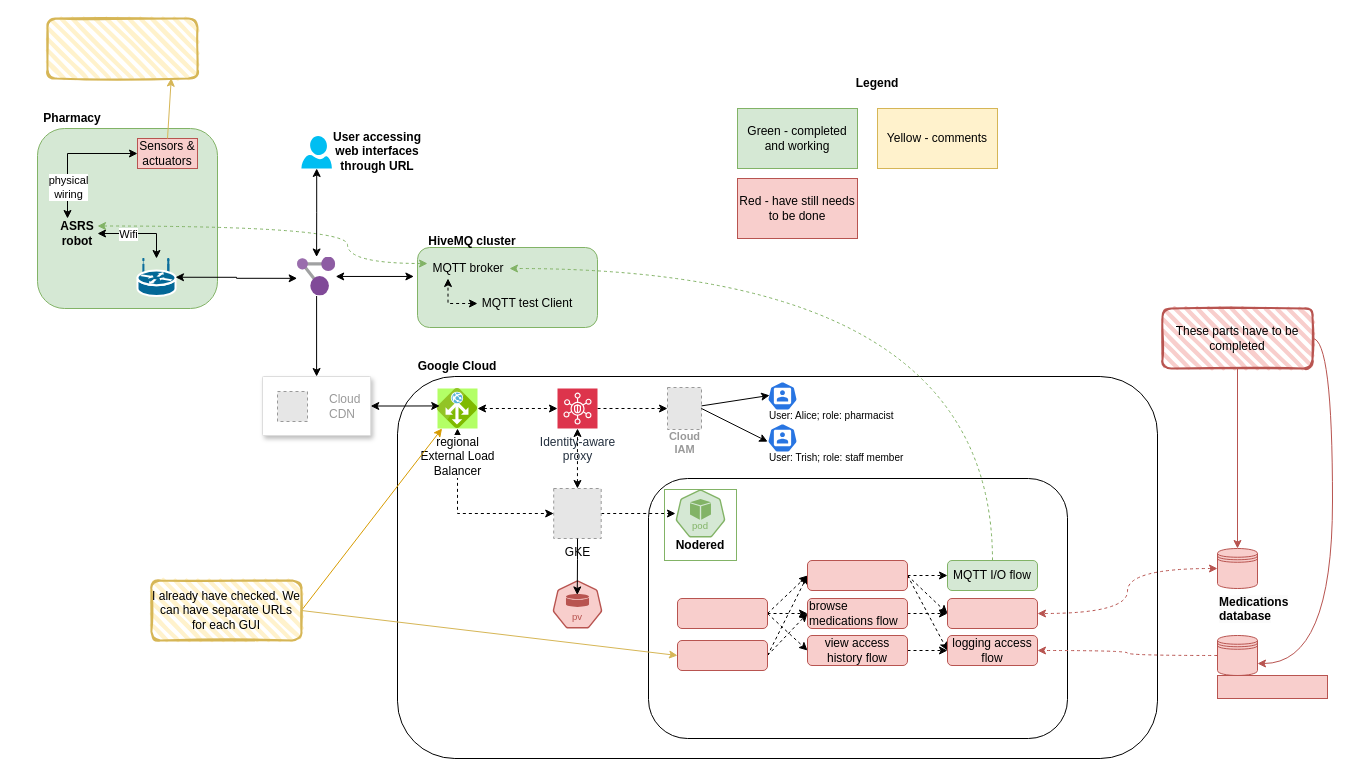
This 1350x776 diagram has some shape labels left out. Grey dashed boxes stand in for pictures. Here are the shapes that lost their labels. From the top down, the centre of each, then its label:
At (122,48): "Actuators work, sensors may be implemented if we will have any time left".
At (316,276): "the Internet".
At (857,575): "load/retrieve flow".
At (722,613): "GUI 1 flow".
At (992,613): "DB access flow".
At (722,655): "GUI 2 flow".
At (1272,686): "access logs store".
